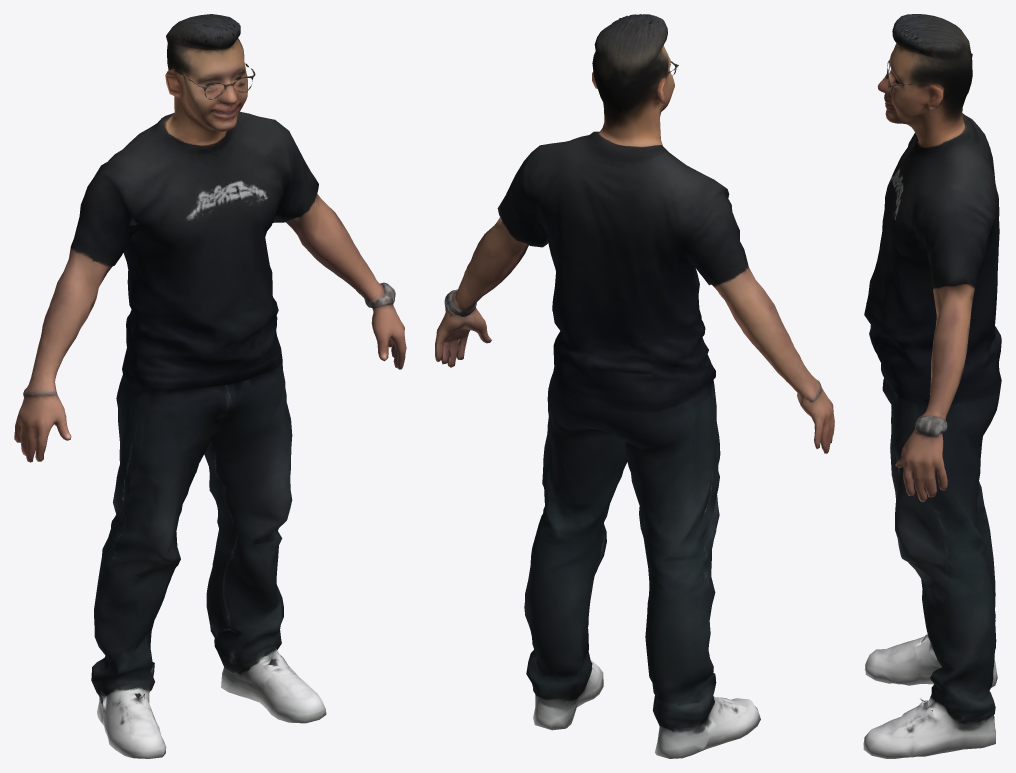
Rendered from ali-almany.glb.
The picture shows the model from 3 angles, left to right: view 1: azimuth 30°, elevation 25°; view 2: azimuth 150°, elevation 25°; view 3: azimuth 270°, elevation 25°; orthographic projection.
Parts seen in each view (by area): view 1: body; view 2: body; view 3: body.
Boxes of the visible parts, x1,y1,x2,y2 form: body: (14,14,406,758); body: (435,14,834,758); body: (863,14,1001,758).
Size of the model in its own units: 1.03 by 1.8 by 0.3257.
Materials: 1 (1 with a texture image).
